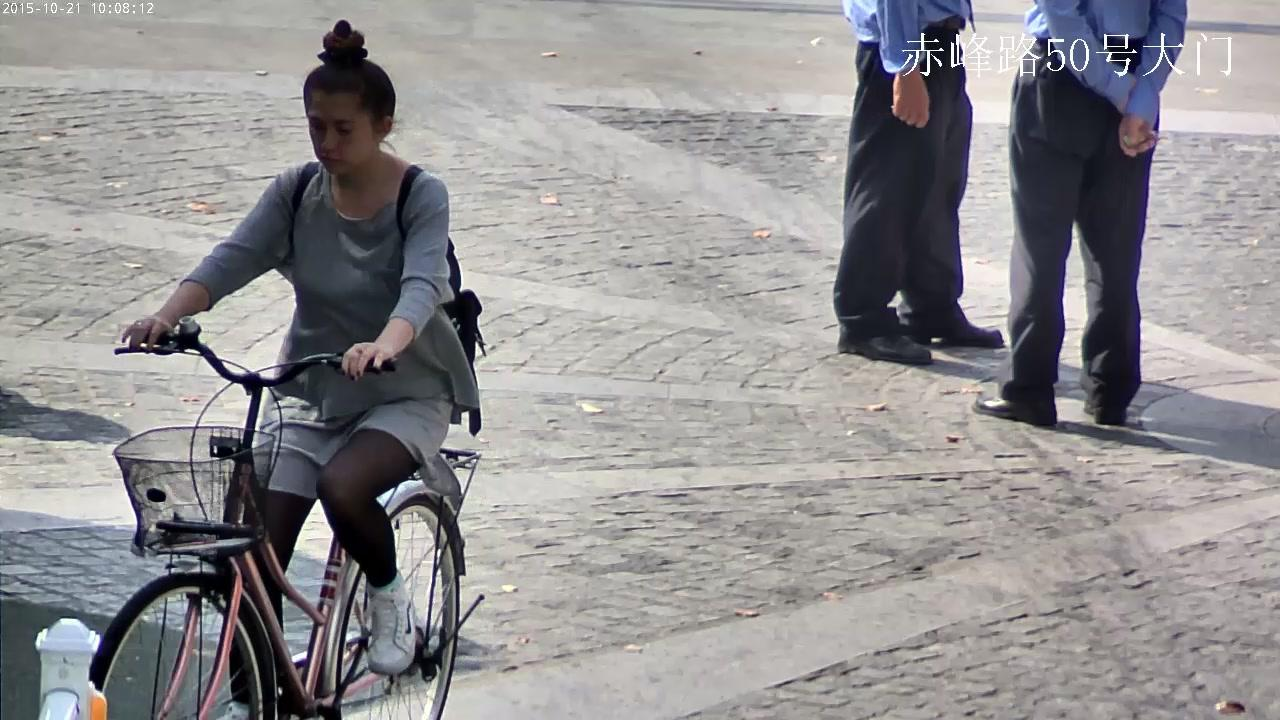face: (306, 92, 376, 172)
